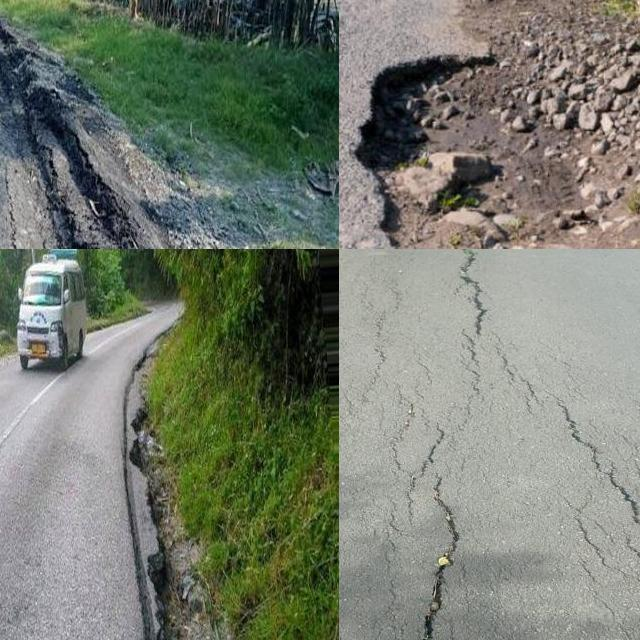Memanjang: (406, 424, 470, 640), (546, 394, 640, 541), (448, 249, 494, 359)
Pinggir: (0, 0, 210, 249), (339, 48, 595, 249), (108, 379, 193, 640)
